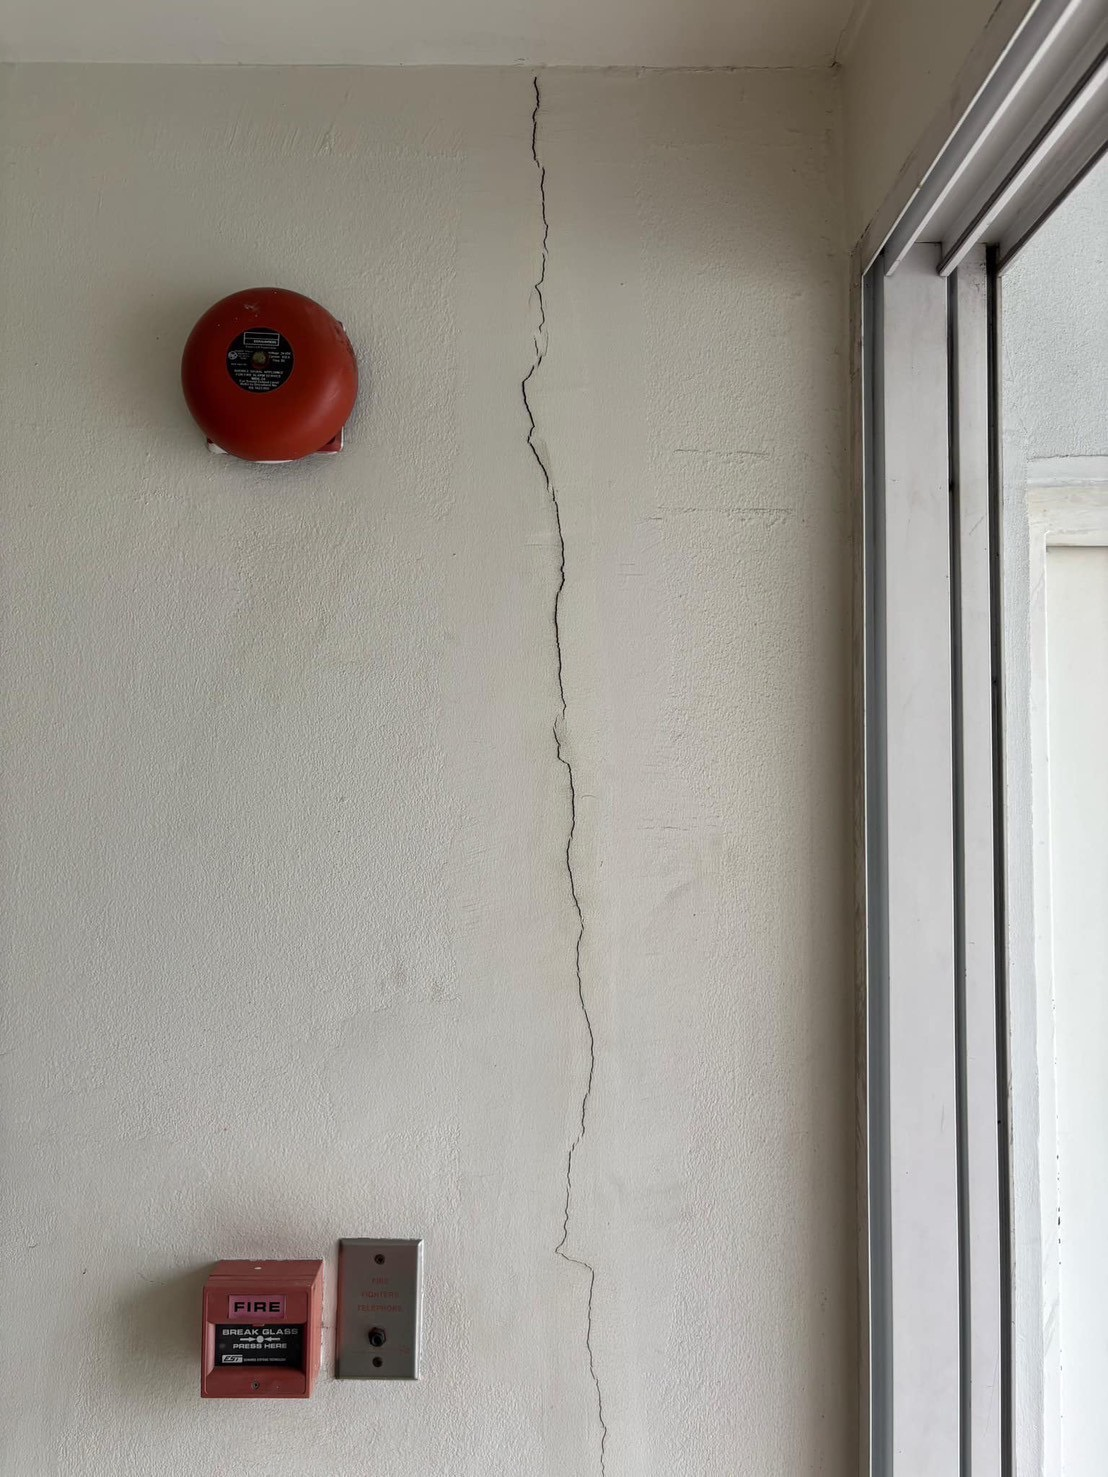Low: (468, 68, 670, 1477)
